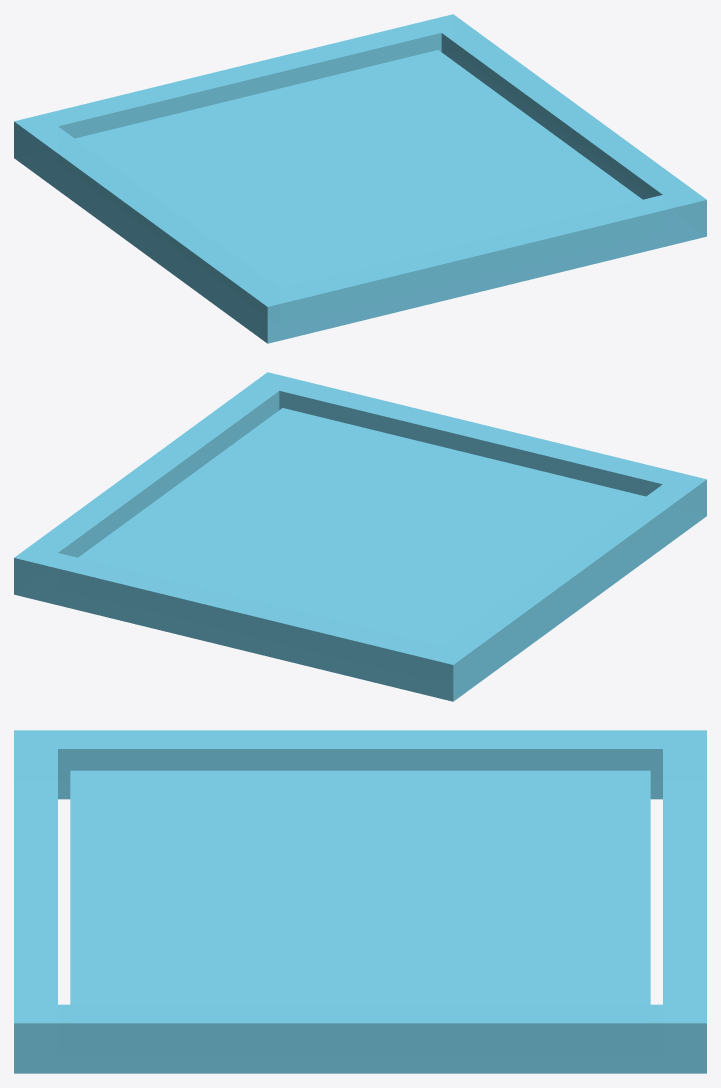
File: tile-square-blue.glb
3 views of the same model, one above another, from view 1: azimuth 30°, elevation 25°; view 2: azimuth 150°, elevation 25°; view 3: azimuth 270°, elevation 25° (orthographic). The views are drawn at different scales.
Parts seen in each view (by area): view 1: tile; view 2: tile; view 3: tile.
Boxes of the visible parts, x1,y1,x2,y2 form: tile: [14, 14, 706, 343]; tile: [14, 372, 706, 701]; tile: [14, 730, 706, 1073].
Bounding box in the file's own units: 1 × 0.08 × 1.
